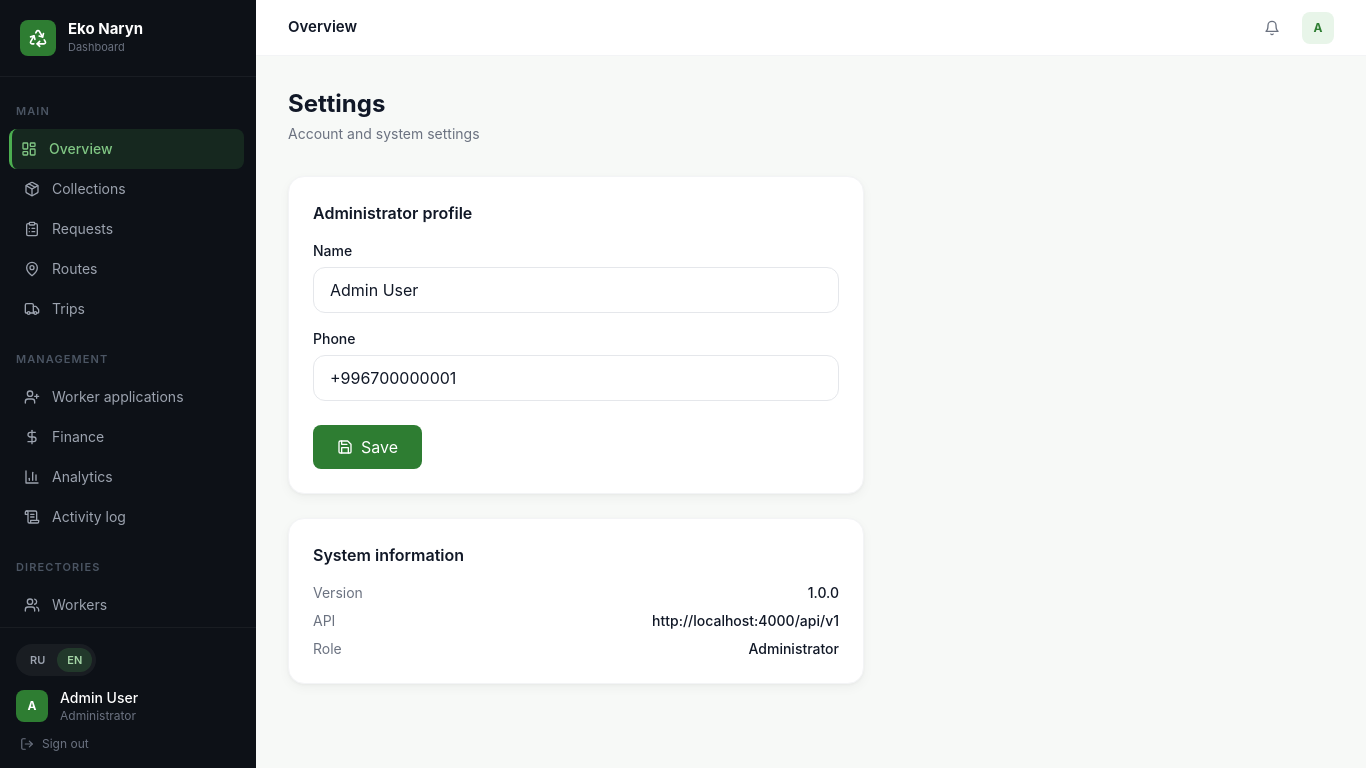
SettingsPage › submitting PUTs /users/:id with the edited values and shows the saved confirmation
The image size is (1366, 768).
Replace the text in the field showing "Admin User" with "New Name" at (576, 290), box top-left (313, 267), bottom-right (839, 313)
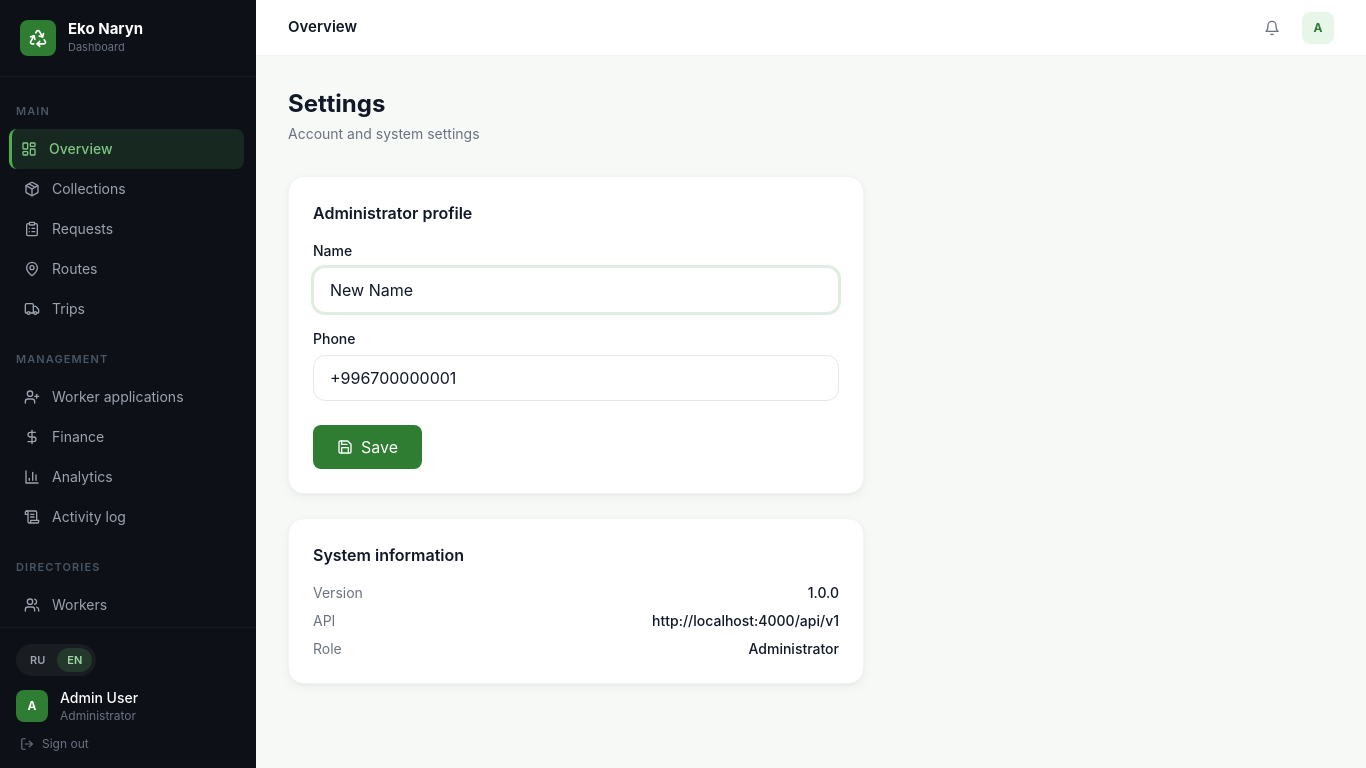
Replace the text in the field showing "+996700000001" with "+996700000099" at (576, 378), box top-left (313, 355), bottom-right (839, 401)
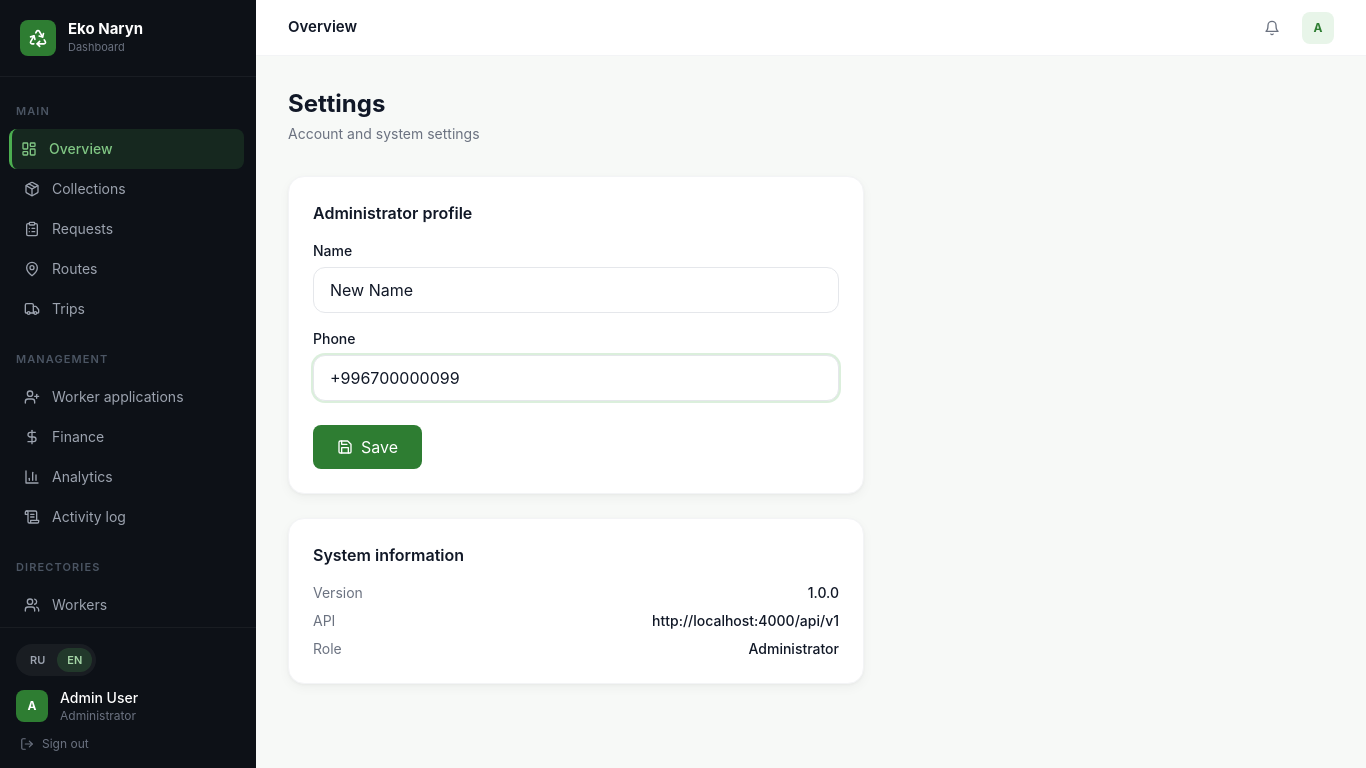
Click the button "Save" at (368, 447), box top-left (313, 425), bottom-right (422, 469)
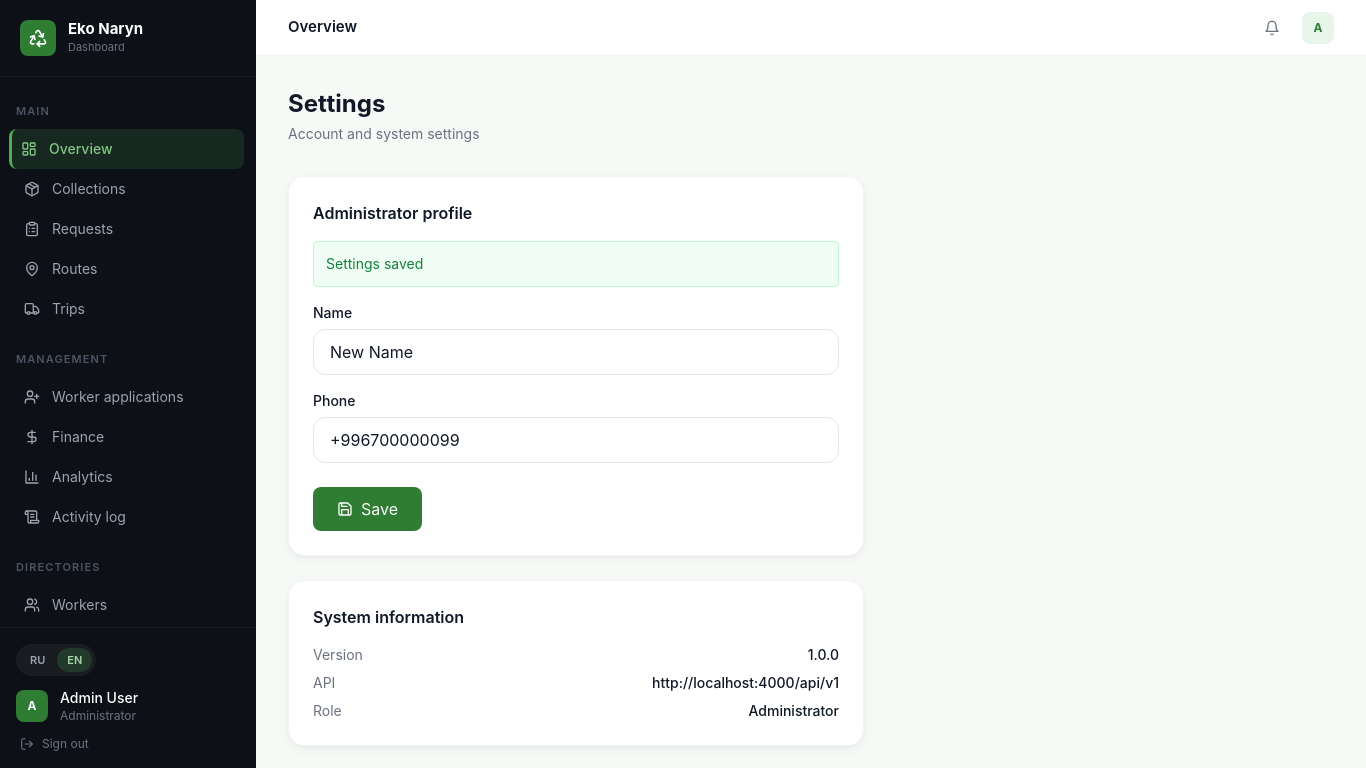
expect the text "Settings saved" is shown: met, box top-left (313, 241), bottom-right (839, 287)
